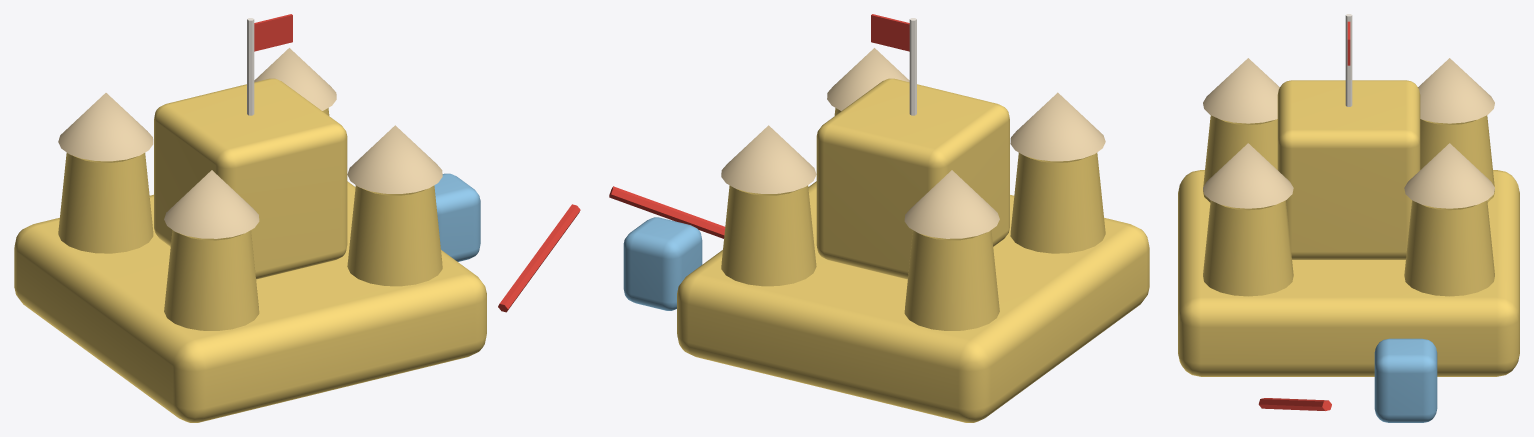
Rendered from sandcastle.glb.
3 views of the same model, side by side, from view 1: azimuth 30°, elevation 25°; view 2: azimuth 150°, elevation 25°; view 3: azimuth 270°, elevation 25° (orthographic). The views are drawn at different scales.
Visible parts, largest first — view 1: sandcastle; view 2: sandcastle; view 3: sandcastle.
Boxes of the visible parts, x1,y1,x2,y2 form: sandcastle: (14,14,580,422); sandcastle: (609,14,1149,422); sandcastle: (1178,14,1519,422).
Bounding box in the file's own units: 1.82 × 1.15 × 1.2.
1 material, 1 textured.
